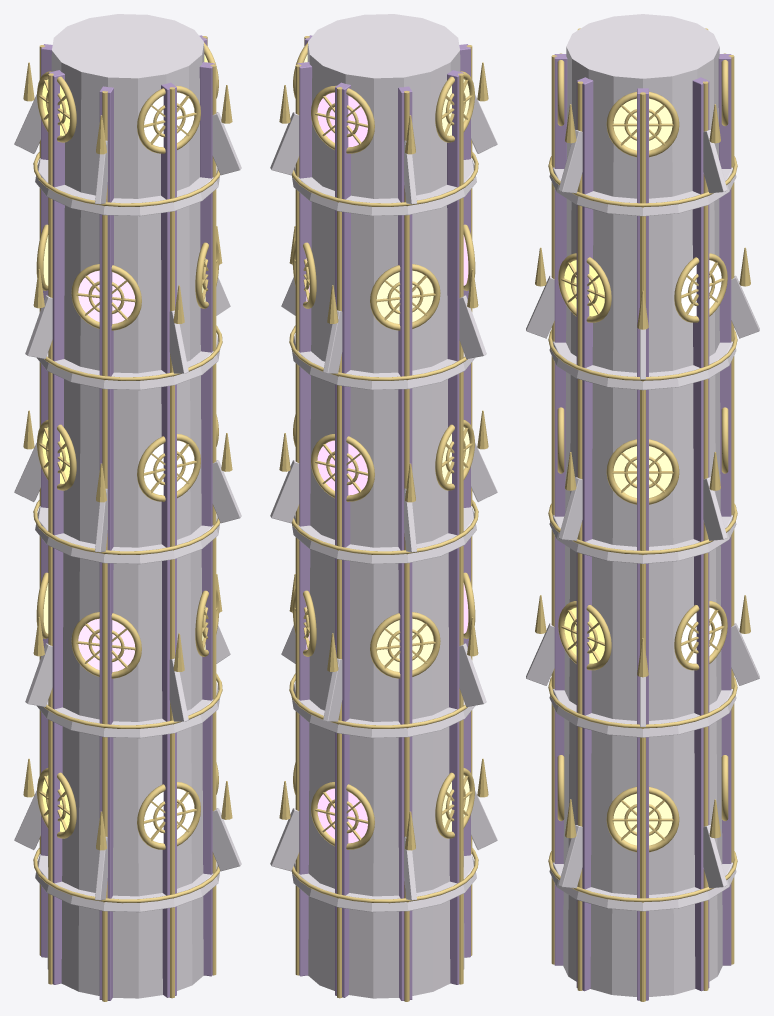
File: w4_mirror_core.glb
3 views of the same model, side by side, from view 1: azimuth 30°, elevation 25°; view 2: azimuth 150°, elevation 25°; view 3: azimuth 270°, elevation 25° (orthographic).
Parts seen in each view (by area): view 1: CathedralShaft, ButtressGold_0, ButtressPier_0, RoseCore_0_1, RoseCore_0_0; view 2: CathedralShaft, ButtressGold_0, ButtressPier_0, RoseCore_0_1, RoseCore_0_0; view 3: CathedralShaft, ButtressGold_0, ButtressPier_0, RoseCore_0_0, RoseCore_0_1.
Part boxes in pixels (box(x1,y1,x2,y2)): CathedralShaft: box(14, 14, 241, 998); ButtressGold_0: box(23, 36, 232, 1001); ButtressPier_0: box(41, 35, 214, 1000); RoseCore_0_1: box(78, 92, 194, 843); RoseCore_0_0: box(42, 54, 207, 831); CathedralShaft: box(270, 14, 497, 998); ButtressGold_0: box(279, 36, 488, 1001); ButtressPier_0: box(297, 35, 470, 1000); RoseCore_0_1: box(306, 92, 468, 843); RoseCore_0_0: box(304, 54, 469, 831); CathedralShaft: box(526, 14, 759, 996); ButtressGold_0: box(535, 28, 750, 1001); ButtressPier_0: box(554, 54, 731, 1000); RoseCore_0_0: box(564, 98, 672, 845); RoseCore_0_1: box(681, 260, 721, 663).
Size of the model in its own units: 43.91 by 190 by 43.91.
